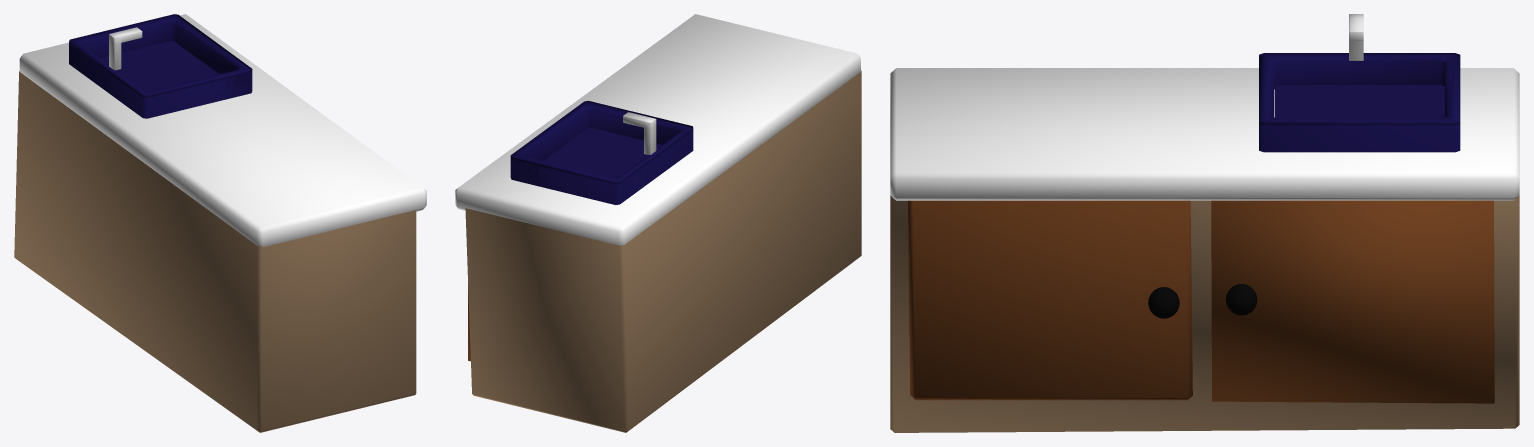
Rendered from right_sink.glb.
3 views of the same model, side by side, from view 1: azimuth 30°, elevation 25°; view 2: azimuth 150°, elevation 25°; view 3: azimuth 270°, elevation 25° (orthographic). The views are drawn at different scales.
Visible parts, largest first — view 1: Plane.023; view 2: Plane.023; view 3: Plane.023.
Part boxes in pixels (x1,y1,x2,y2): Plane.023: [14, 14, 426, 432]; Plane.023: [455, 14, 861, 432]; Plane.023: [890, 14, 1519, 432].
Bounding box in the file's own units: 2.15 × 2.83 × 4.76.
